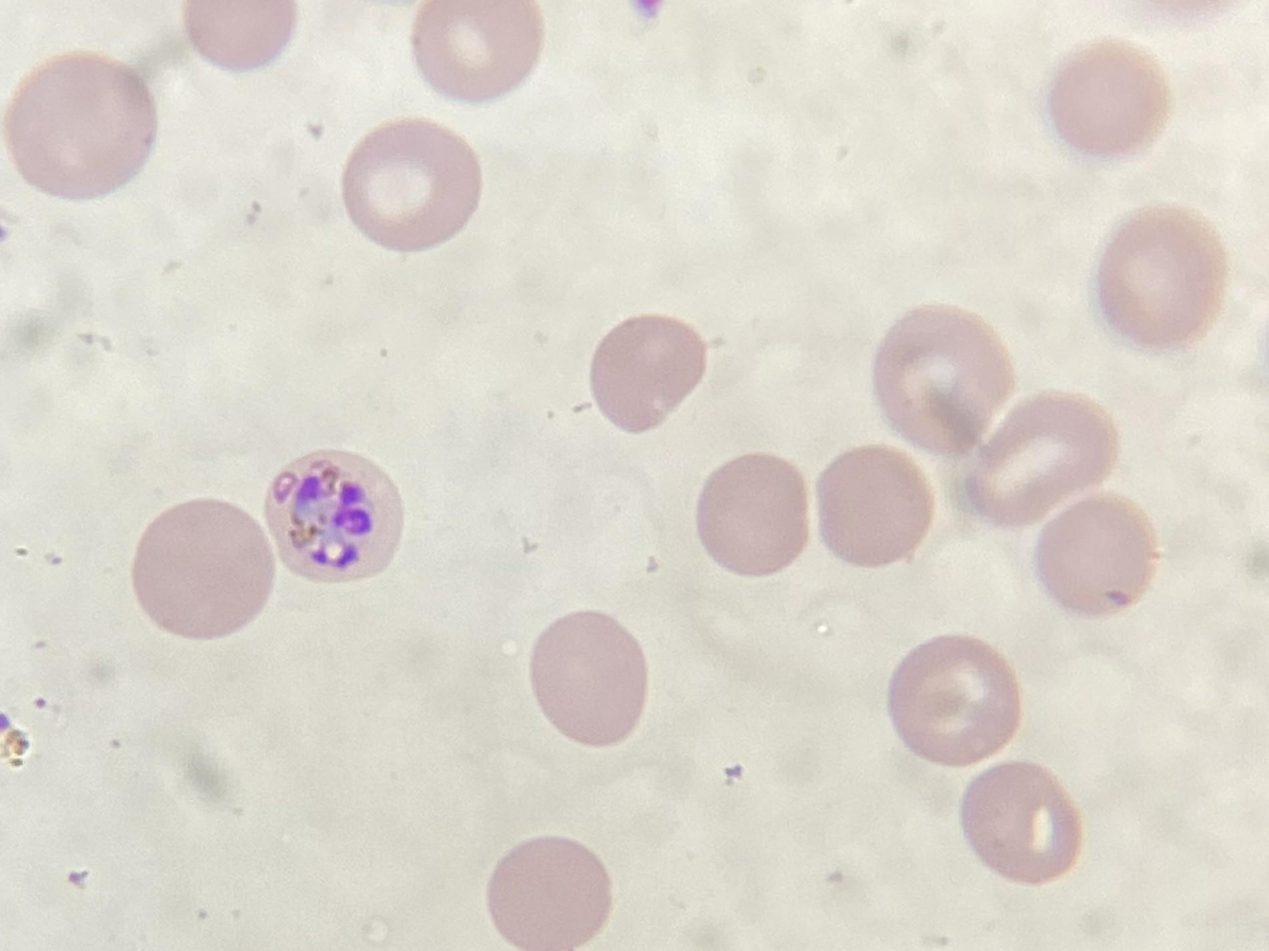Infected: (261, 445, 401, 579)
Uninfected: (0, 49, 157, 200), (1088, 199, 1237, 354), (961, 390, 1119, 530), (870, 305, 1017, 452), (130, 500, 277, 640), (339, 117, 483, 251), (885, 634, 1022, 765), (526, 610, 649, 746), (955, 759, 1084, 886), (1034, 492, 1160, 617), (692, 451, 815, 578), (1044, 37, 1171, 159), (814, 445, 937, 569), (484, 836, 612, 951), (586, 313, 708, 432)
